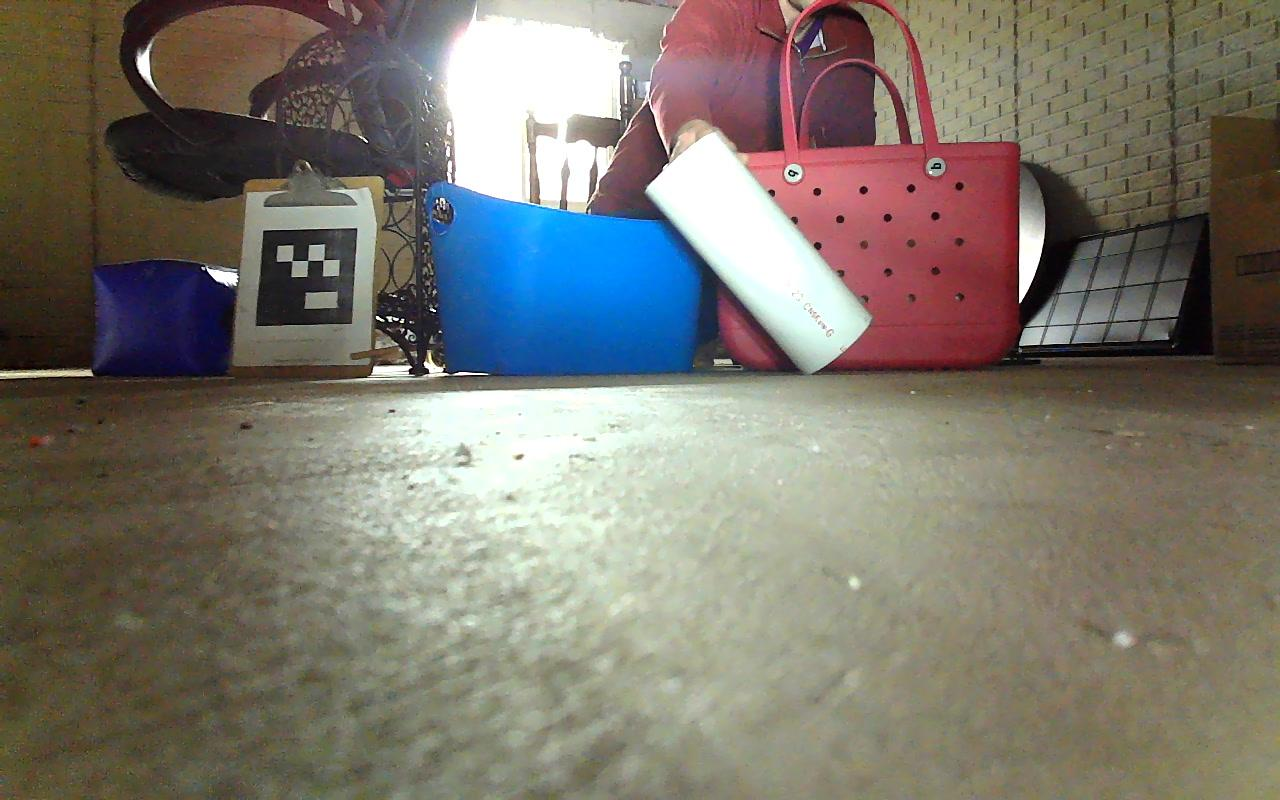coral: (641, 125, 879, 381)
